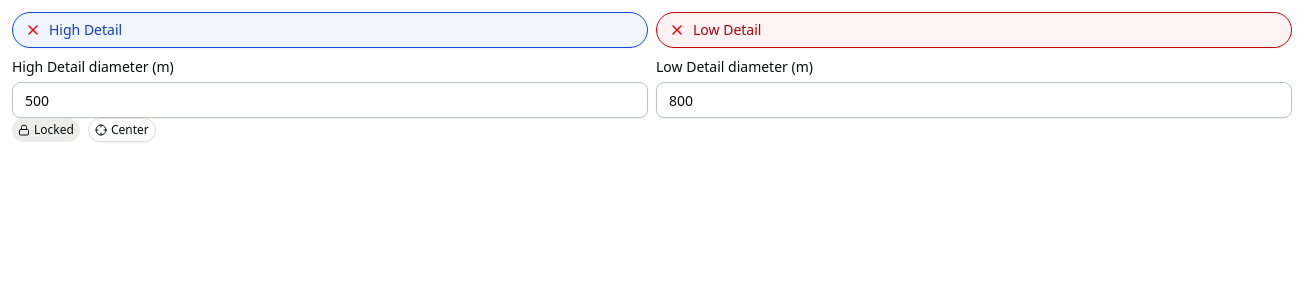
Scenario: snaps typed diameters to 100 m and warns above 500 m High Detail or 800 m Low Detail
Step 1. Replace the text in the number field labelled "Low Detail diameter (m)" with "860" → (974, 100), box left=656, top=82, right=1292, bottom=118
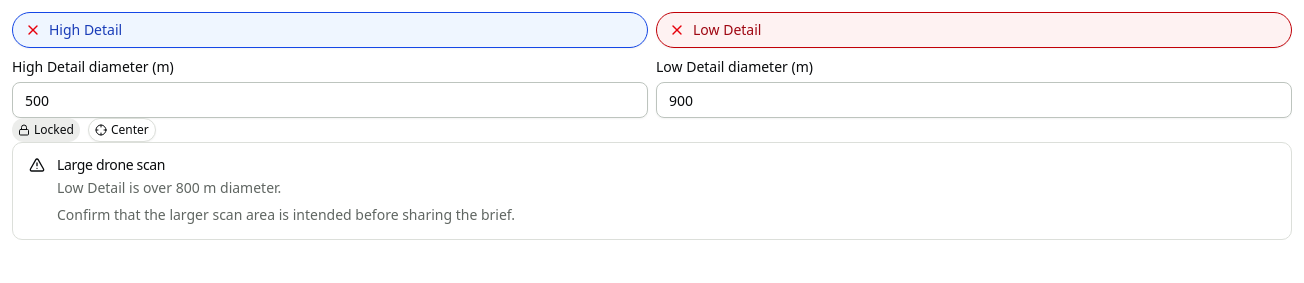
Expected: the message shows "Low Detail is over 800 m diameter.", left=57, top=178, right=281, bottom=197
Step 2. Replace the text in the number field labelled "High Detail diameter (m)" with "600" → (330, 100), box left=12, top=82, right=648, bottom=118
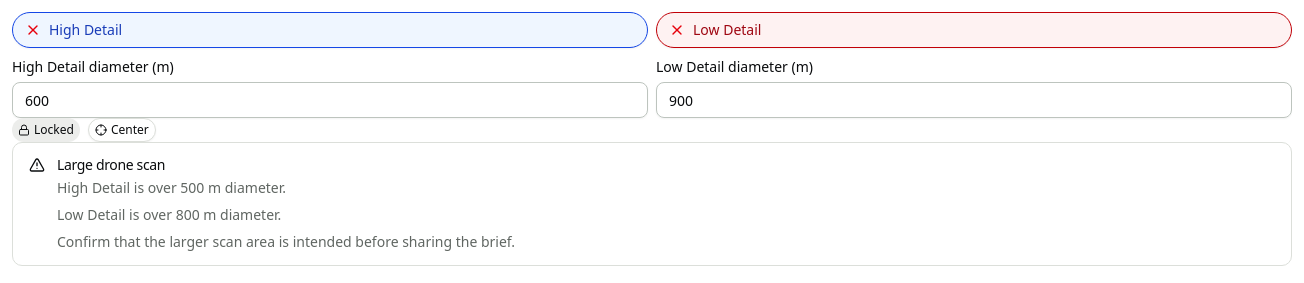
Expected: the message shows "High Detail is over 500 m diameter.", left=57, top=178, right=286, bottom=197
